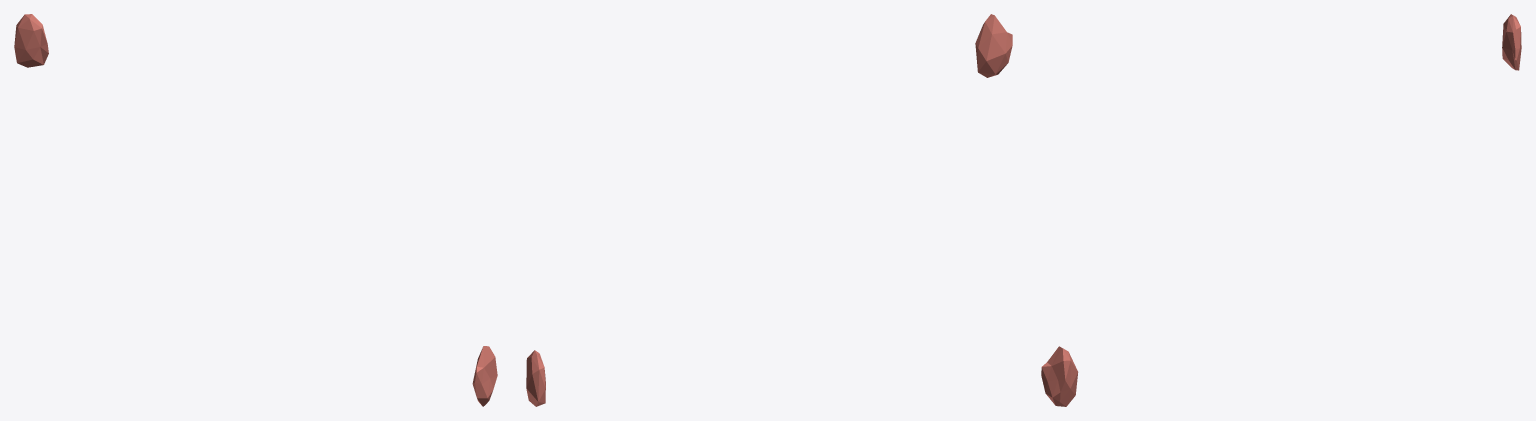
The picture shows the model from 3 angles, left to right: view 1: azimuth 30°, elevation 25°; view 2: azimuth 150°, elevation 25°; view 3: azimuth 330°, elevation 25°; orthographic projection.
Parts seen in each view (by area): view 1: 356.obj; view 2: 356.obj; view 3: 356.obj.
Boxes of the visible parts, <box> form: 356.obj: <box>14,14,497,406</box>; 356.obj: <box>526,14,1012,406</box>; 356.obj: <box>1041,14,1521,406</box>.
Bounding box in the file's own units: 90.99 × 201 × 2766.
